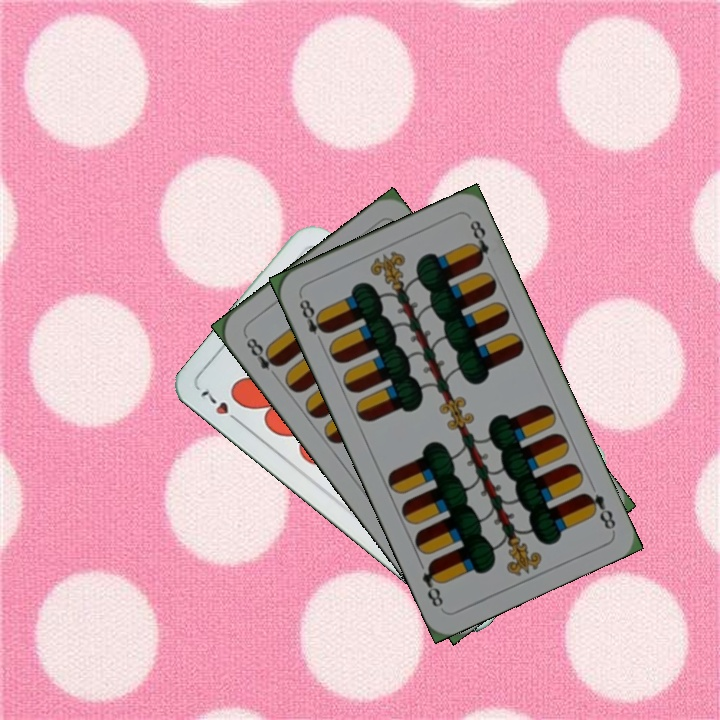E8: (240, 331, 284, 382), (295, 291, 331, 347), (579, 488, 618, 532)
H7: (196, 386, 245, 427)
